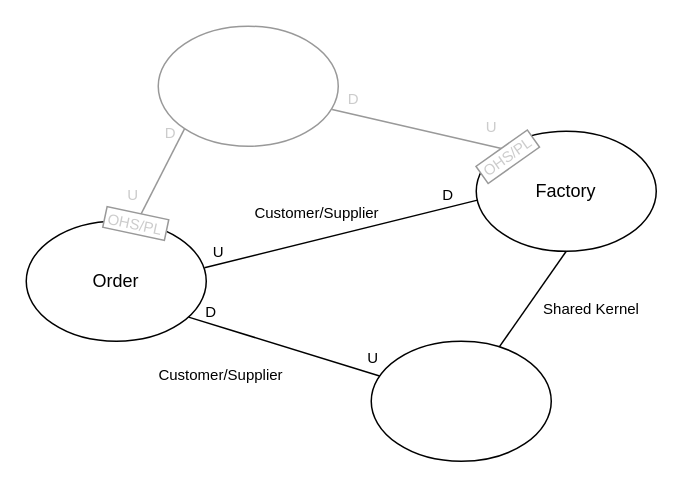
Image size: 683x488. Some labels were removed from this diagram. Each missing label, with the centre of its shape:
Dashboard: (247,85)
Inventory: (460,400)
